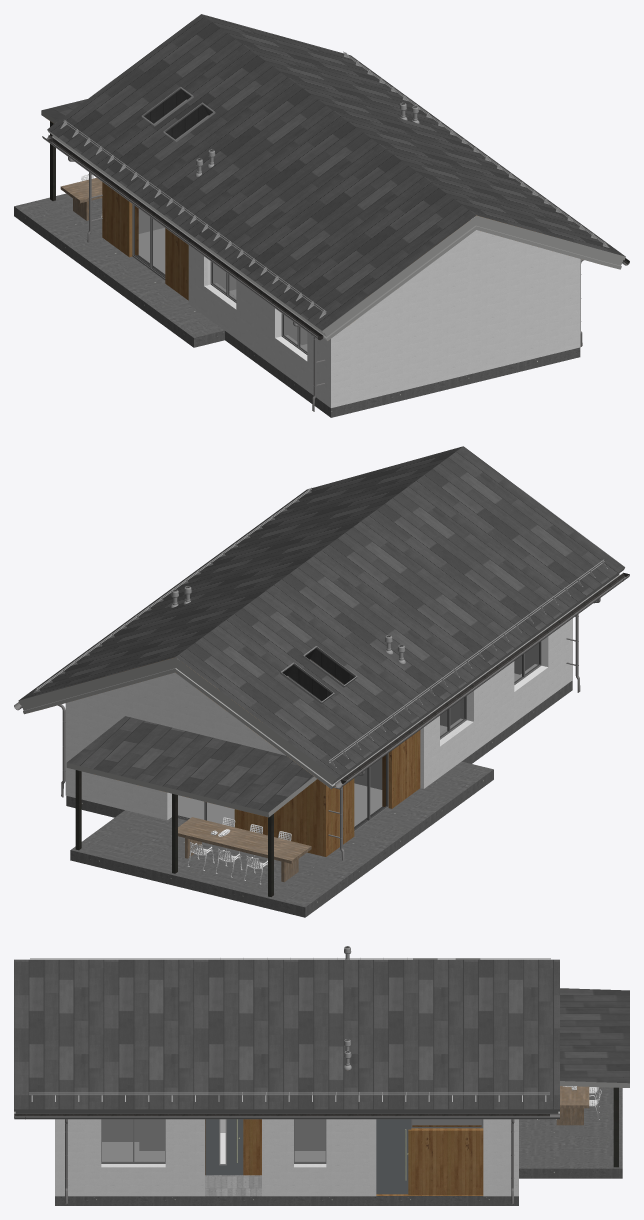
File: SMPL_AR-fixed.glb
The picture shows the model from 3 angles, top to bottom: view 1: azimuth 30°, elevation 25°; view 2: azimuth 150°, elevation 25°; view 3: azimuth 270°, elevation 25°; orthographic projection. The views are drawn at different scales.
Visible parts, largest first — view 1: _3DGeom1499500, _3DGeom9515516, _3DGeom6509510, _3DGeom3503504, _3DGeom8513514, _3DGeom5507508, _3DGeom380442443, _3DGeom379439440, _3DGeom10198199005, _3DGeom10198199006, _3DGeom10198199015, New411412 (+5 smaller); view 2: _3DGeom1499500, _3DGeom6509510, _3DGeom9515516, _3DGeom3503504, _3DGeom8513514, _3DGeom5507508, New411412, _3DGeom380442443, _3DGeom4505506, _3DGeom379439440, _3DGeom10198199015, _3DGeom10198199017 (+4 smaller); view 3: _3DGeom1499500, _3DGeom9515516, _3DGeom6509510, _3DGeom8513514, _3DGeom5507508, _3DGeom3503504, _3DGeom375430431, _3DGeom281305306, _3DGeom354381382, _3DGeom376433434, _3DGeom10198199, _3DGeom10198199003 (+10 smaller).
Part boxes in pixels (x1,y1,x2,y2): _3DGeom1499500: (42, 14, 625, 330); _3DGeom9515516: (188, 230, 580, 407); _3DGeom6509510: (14, 193, 580, 417); _3DGeom3503504: (41, 110, 625, 340); _3DGeom8513514: (102, 182, 188, 300); _3DGeom5507508: (138, 99, 307, 361); _3DGeom380442443: (48, 138, 323, 340); _3DGeom379439440: (42, 135, 323, 339); _3DGeom10198199005: (133, 205, 149, 266); _3DGeom10198199006: (134, 206, 149, 265); _3DGeom10198199015: (151, 218, 164, 277); New411412: (60, 177, 102, 203); _3DGeom1499500: (19, 446, 624, 812); _3DGeom6509510: (66, 680, 572, 917); _3DGeom9515516: (65, 618, 572, 820); _3DGeom3503504: (18, 568, 624, 817); _3DGeom8513514: (234, 730, 420, 856); _3DGeom5507508: (178, 636, 548, 826); New411412: (178, 817, 311, 863); _3DGeom380442443: (340, 573, 629, 783); _3DGeom4505506: (75, 770, 273, 896); _3DGeom379439440: (335, 573, 629, 788); _3DGeom10198199015: (370, 754, 387, 818); _3DGeom10198199017: (371, 755, 386, 817); _3DGeom1499500: (14, 959, 629, 1109); _3DGeom9515516: (55, 1119, 518, 1196); _3DGeom6509510: (55, 1087, 622, 1205); _3DGeom8513514: (205, 1119, 483, 1195); _3DGeom5507508: (102, 1119, 481, 1163); _3DGeom3503504: (14, 988, 629, 1117); _3DGeom375430431: (14, 1113, 559, 1119); _3DGeom281305306: (377, 1119, 408, 1194); _3DGeom354381382: (205, 1119, 240, 1175); _3DGeom376433434: (14, 1114, 549, 1116); _3DGeom10198199: (102, 1119, 132, 1162); _3DGeom10198199003: (134, 1119, 164, 1162).
Bounding box in the file's own units: 10.05 × 5.75 × 17.26.
Materials: 21 (10 with a texture image).
